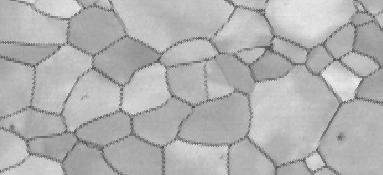good_void: (77, 88, 96, 104), (335, 134, 347, 146), (7, 122, 16, 131)
